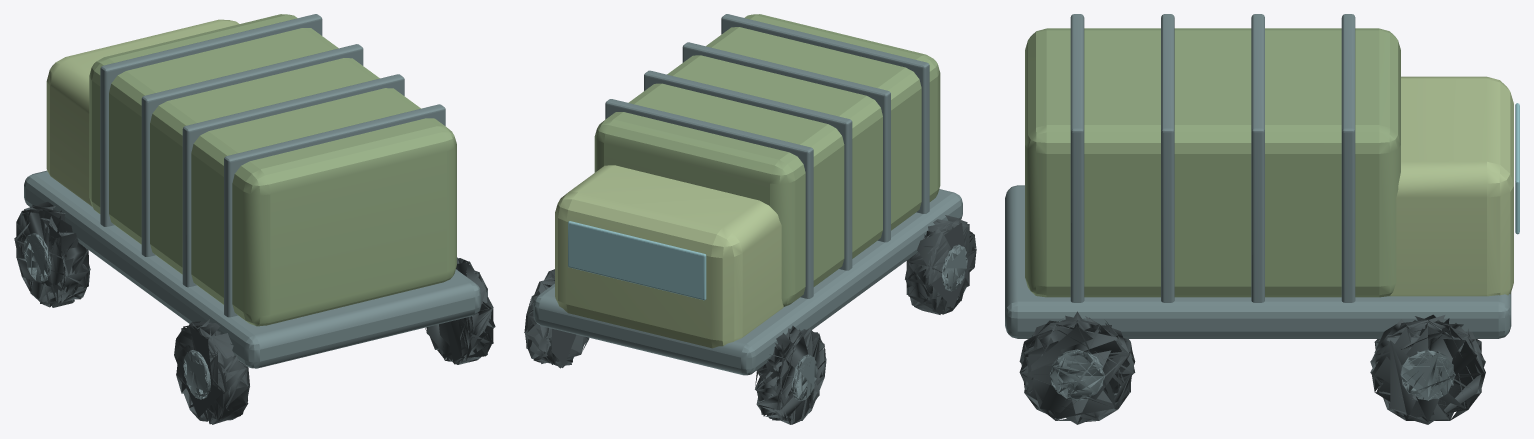
The model's file is supply_truck.glb.
3 views of the same model, side by side, from view 1: azimuth 30°, elevation 25°; view 2: azimuth 150°, elevation 25°; view 3: azimuth 270°, elevation 25° (orthographic). The views are drawn at different scales.
Visible parts, largest first — view 1: Surface_WorldOlive, Surface_WorldMetal, Surface_WorldRoof, Wheel.001, Wheel, Wheel.002, Hub.001, Hub; view 2: Surface_WorldOlive, Surface_WorldMetal, Surface_WorldRoof, Surface_WorldGlass, Wheel, Wheel.001, Wheel.003, Hub, Hub.001; view 3: Surface_WorldOlive, Surface_WorldMetal, Surface_WorldRoof, Wheel.003, Wheel.002, Hub.002, Hub.003, Surface_WorldGlass.
Part boxes in pixels (box(x1,y1,x2,y2)): Surface_WorldOlive: box(89, 14, 456, 326); Surface_WorldMetal: box(24, 14, 480, 368); Surface_WorldRoof: box(46, 19, 239, 206); Wheel.001: box(14, 201, 90, 307); Wheel: box(174, 319, 249, 424); Wheel.002: box(425, 257, 495, 364); Hub.001: box(23, 233, 51, 282); Hub: box(183, 350, 210, 399); Surface_WorldOlive: box(594, 14, 940, 306); Surface_WorldMetal: box(533, 14, 962, 375); Surface_WorldRoof: box(555, 165, 783, 348); Surface_WorldGlass: box(568, 221, 706, 300); Wheel: box(905, 215, 976, 314); Wheel.001: box(755, 325, 826, 424); Wheel.003: box(524, 269, 589, 368); Hub: box(941, 244, 967, 291); Hub.001: box(791, 354, 817, 400); Surface_WorldOlive: box(1025, 28, 1400, 297); Surface_WorldMetal: box(1005, 14, 1511, 338); Surface_WorldRoof: box(1389, 76, 1513, 296); Wheel.003: box(1370, 314, 1485, 424); Wheel.002: box(1019, 311, 1135, 424); Hub.002: box(1049, 349, 1104, 400); Hub.003: box(1400, 349, 1455, 400); Surface_WorldGlass: box(1515, 103, 1519, 234).
Bounding box in the file's own units: 1.95 × 1.72 × 2.85.
